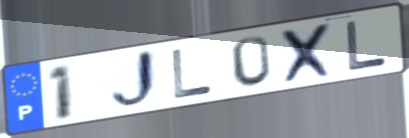0: (228, 34, 274, 90)
1: (46, 62, 78, 122)
J: (109, 46, 162, 114)
L: (344, 18, 390, 74), (169, 47, 216, 101)
X: (278, 20, 338, 87)
